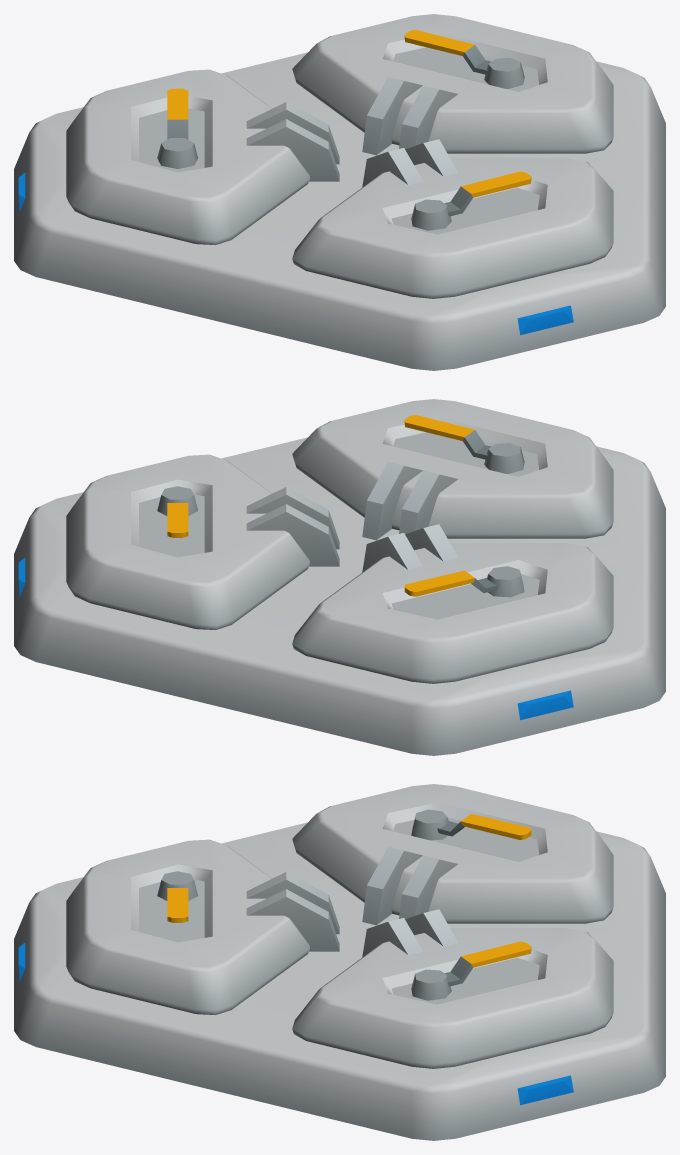
Rendered from Hatch_007.glb.
The picture shows the model from 3 angles, top to bottom: view 1: azimuth 30°, elevation 25°; view 2: azimuth 150°, elevation 25°; view 3: azimuth 270°, elevation 25°; orthographic projection.
Parts seen in each view (by area): view 1: Hatch_007; view 2: Hatch_007; view 3: Hatch_007.
Boxes of the visible parts, bbox=[...] form: Hatch_007: bbox=[14, 14, 665, 370]; Hatch_007: bbox=[14, 399, 665, 755]; Hatch_007: bbox=[14, 784, 665, 1140].
Size of the model in its own units: 1.76 by 0.2655 by 1.56.
Materials: 2 (2 with a texture image).
